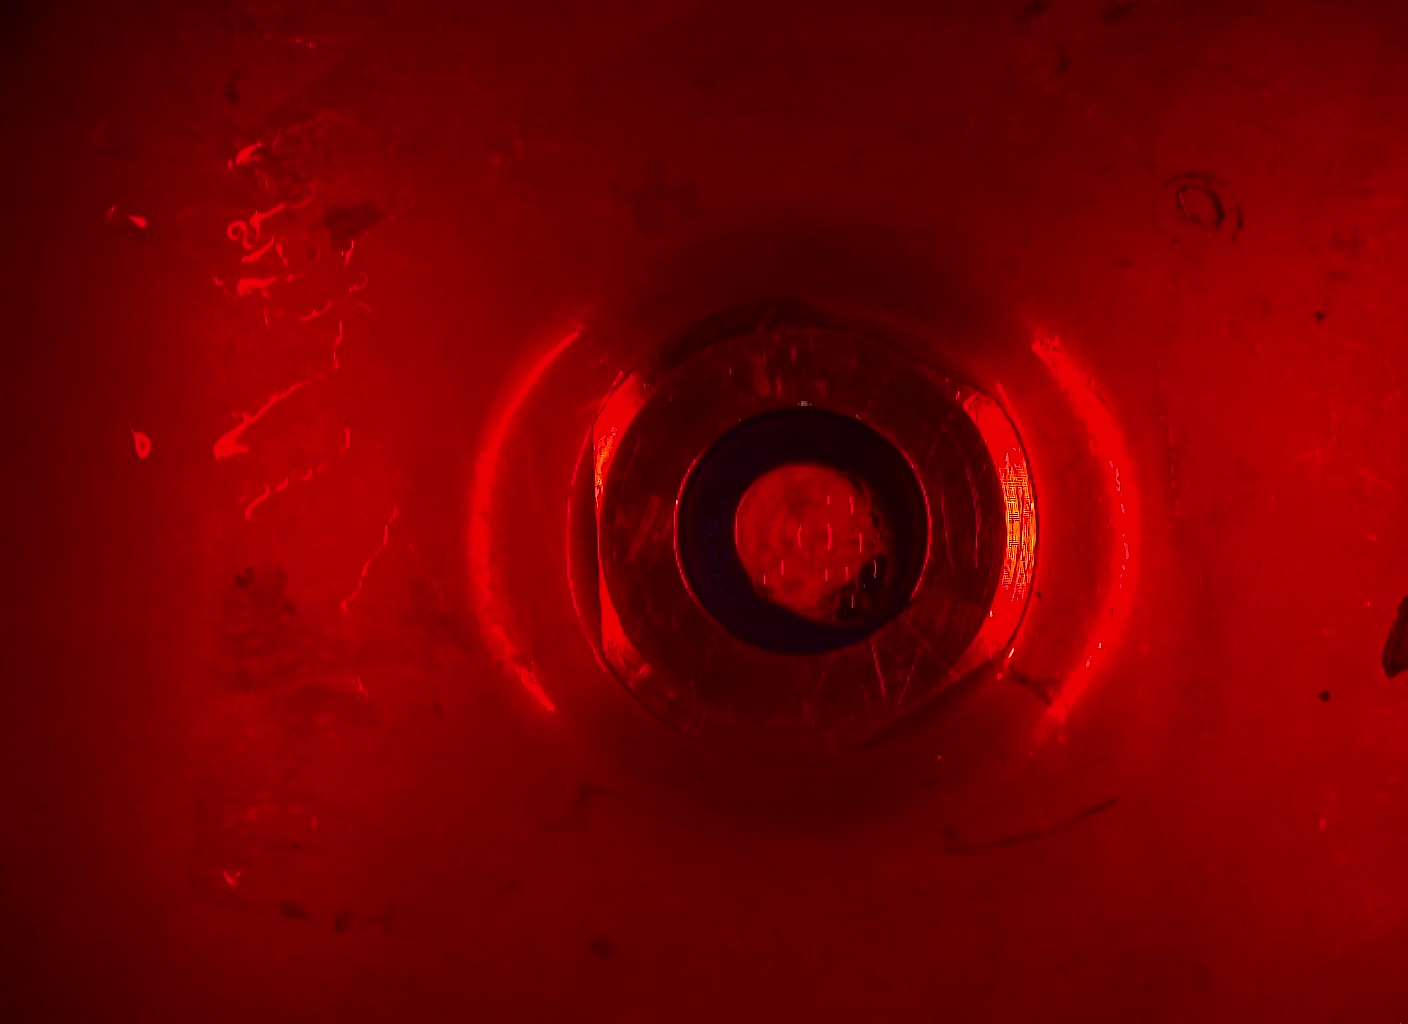pena: (747, 478, 897, 642)
